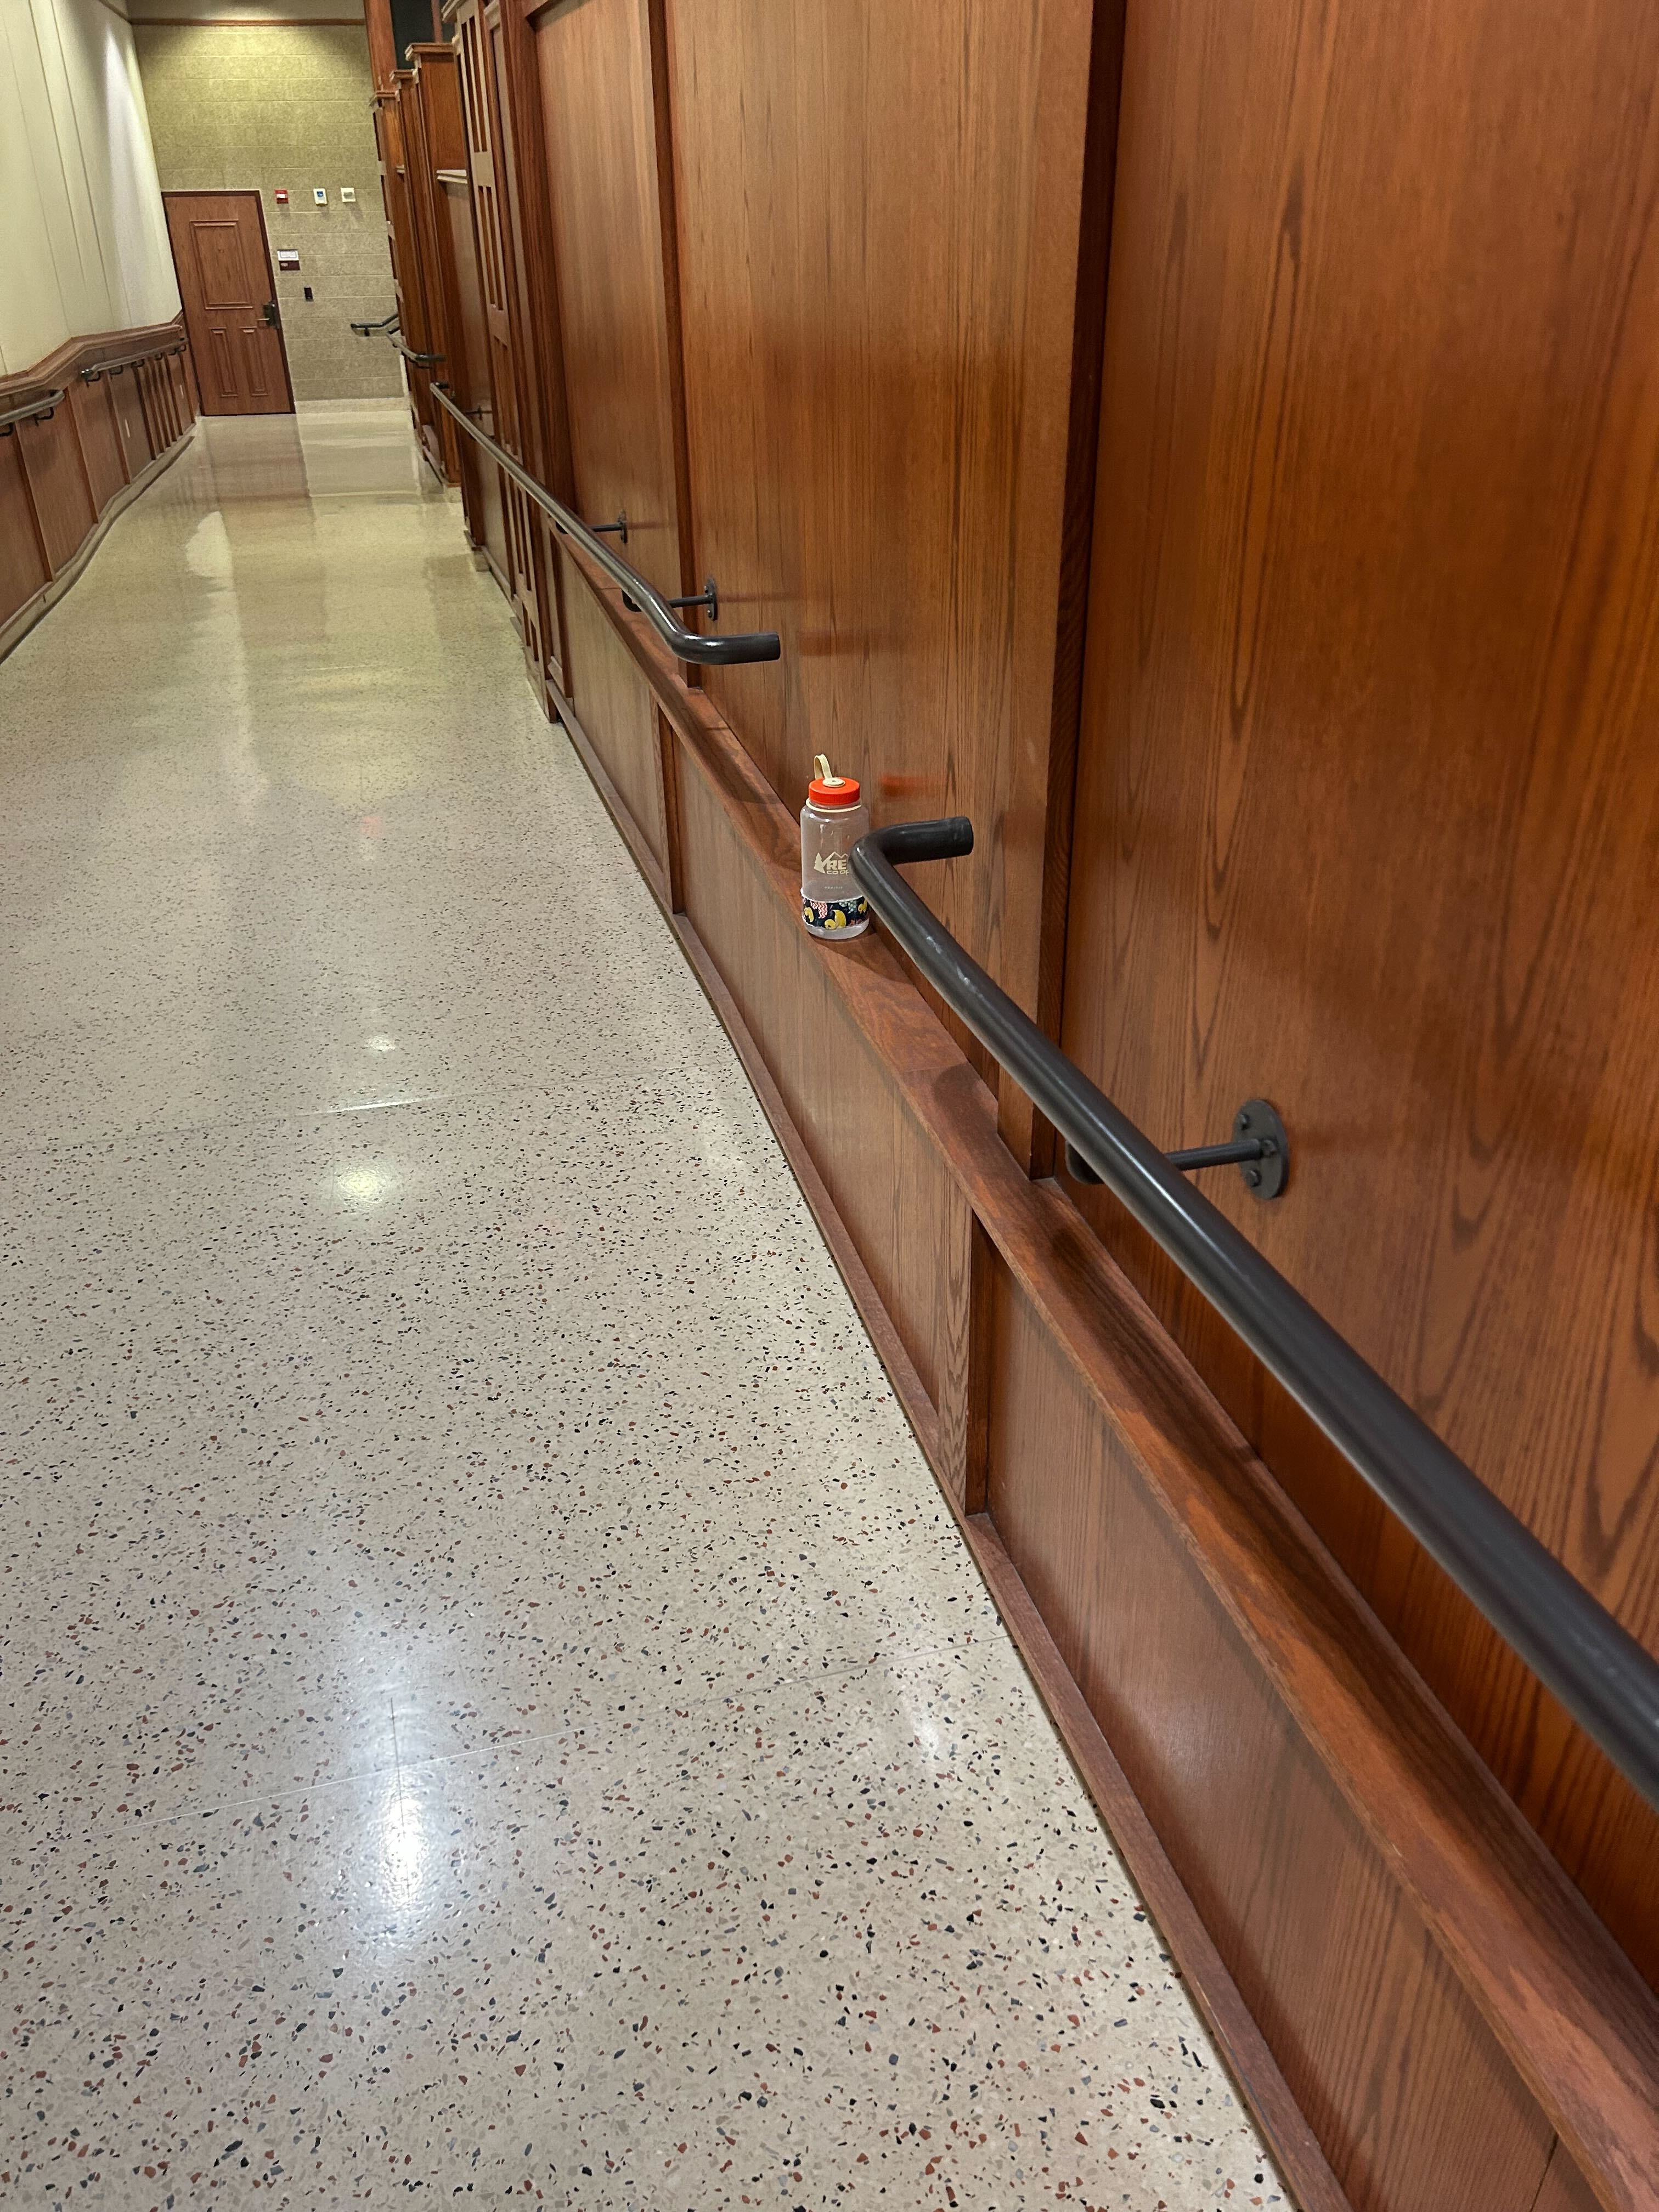bottle: (795, 740, 875, 949)
